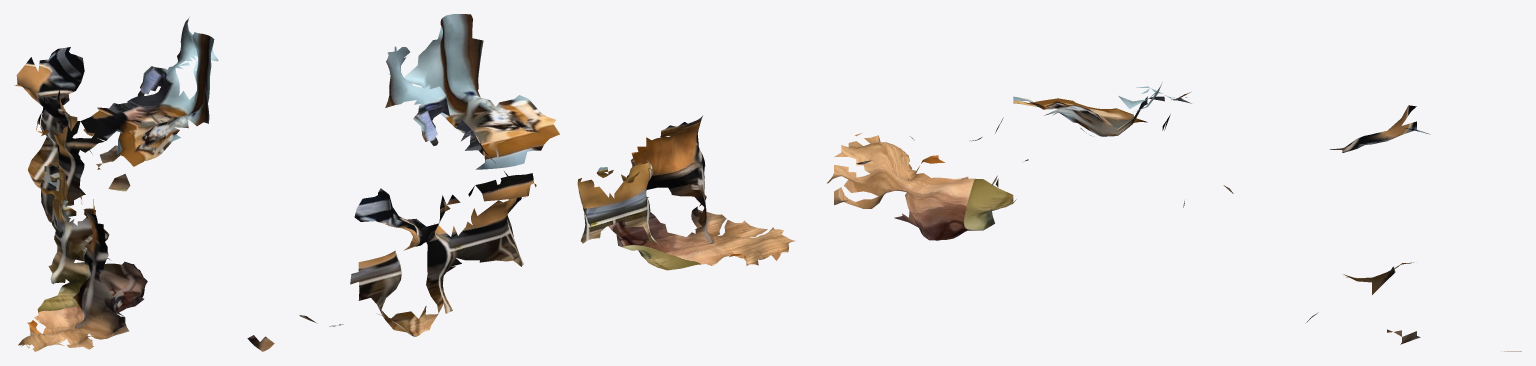
Rendered from 137918-101-tex.glb.
3 views of the same model, side by side, from view 1: azimuth 30°, elevation 25°; view 2: azimuth 150°, elevation 25°; view 3: azimuth 270°, elevation 25° (orthographic). The views are drawn at different scales.
Parts seen in each view (by area): view 1: Node; view 2: Node; view 3: Node.
Boxes of the visible parts, x1,y1,x2,y2 form: Node: (14, 17, 218, 351); Node: (247, 14, 795, 351); Node: (827, 82, 1521, 351).
Size of the model in its own units: 1.94 by 1.35 by 2.67.
1 material, 1 textured.
